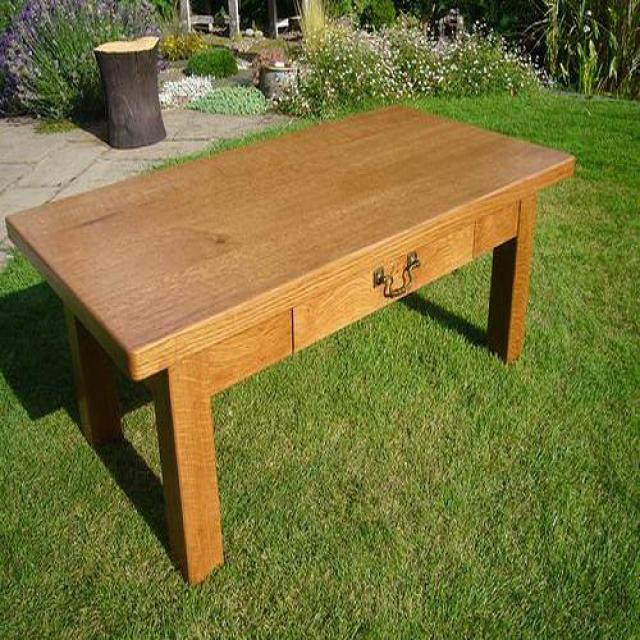table: (5, 106, 577, 585)
